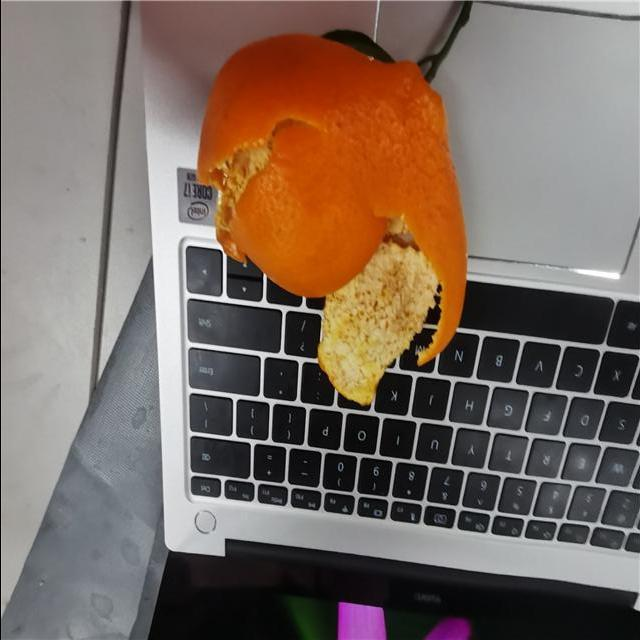orange peel: (195, 33, 465, 403)
